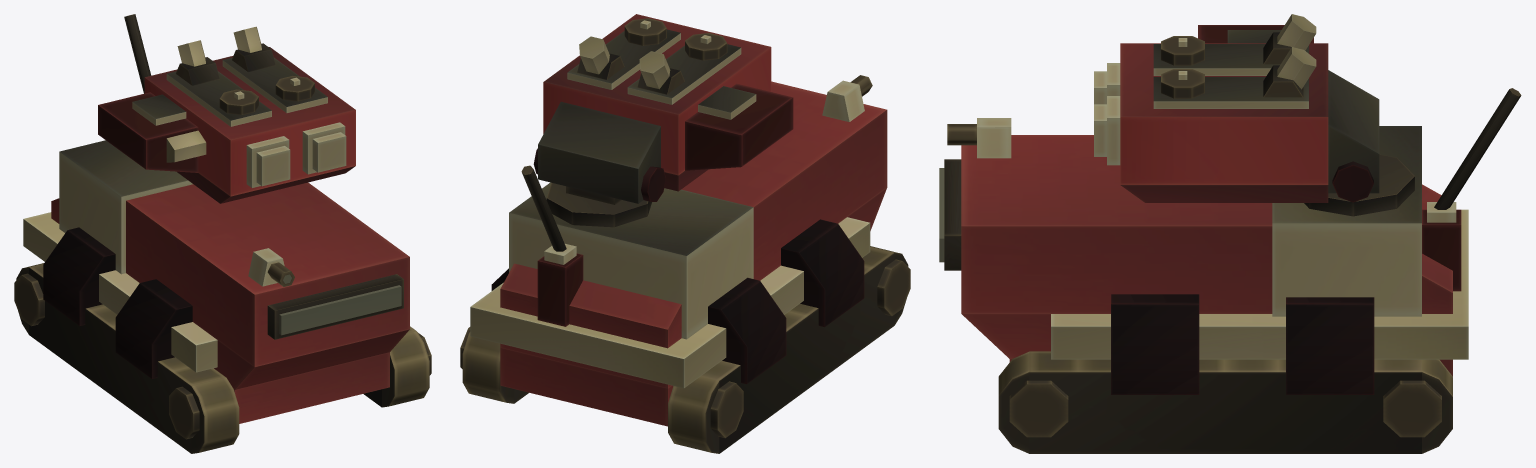
Rendered from unit_Tank_Missile_Harnok_B.FBX.
The picture shows the model from 3 angles, left to right: view 1: azimuth 30°, elevation 25°; view 2: azimuth 150°, elevation 25°; view 3: azimuth 270°, elevation 25°; orthographic projection. The views are drawn at different scales.
Visible parts, largest first — view 1: unit_Tank_Missile_Harnok_B_Body, unit_Tank_Missile_Harnok_B_Weapon; view 2: unit_Tank_Missile_Harnok_B_Body, unit_Tank_Missile_Harnok_B_Weapon, unit_Tank_Missile_Harnok_B_Mount; view 3: unit_Tank_Missile_Harnok_B_Body, unit_Tank_Missile_Harnok_B_Weapon, unit_Tank_Missile_Harnok_B_Mount.
Boxes of the visible parts, x1,y1,x2,y2 form: unit_Tank_Missile_Harnok_B_Body: [14, 14, 431, 453]; unit_Tank_Missile_Harnok_B_Weapon: [98, 26, 355, 203]; unit_Tank_Missile_Harnok_B_Body: [460, 75, 910, 453]; unit_Tank_Missile_Harnok_B_Weapon: [533, 14, 793, 203]; unit_Tank_Missile_Harnok_B_Mount: [546, 182, 651, 227]; unit_Tank_Missile_Harnok_B_Body: [939, 88, 1521, 453]; unit_Tank_Missile_Harnok_B_Weapon: [1094, 14, 1379, 202]; unit_Tank_Missile_Harnok_B_Mount: [1304, 154, 1414, 216].
Bounding box in the file's own units: 315 × 386 × 552.
